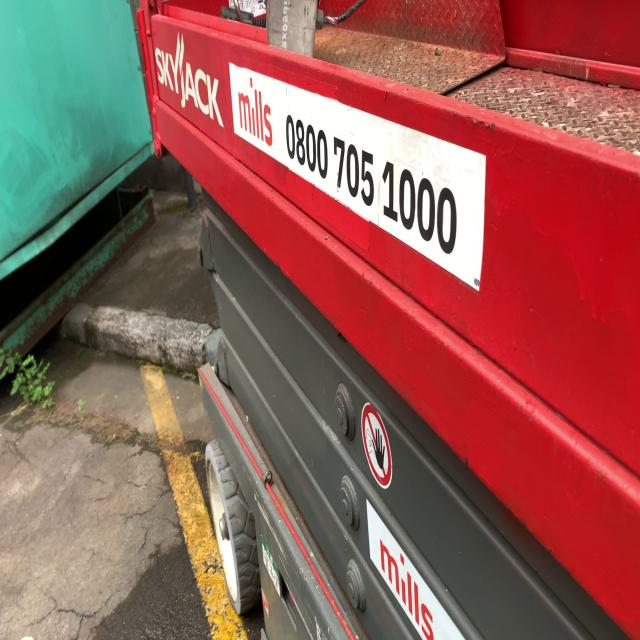Adesivo Longo: (227, 59, 489, 297)
